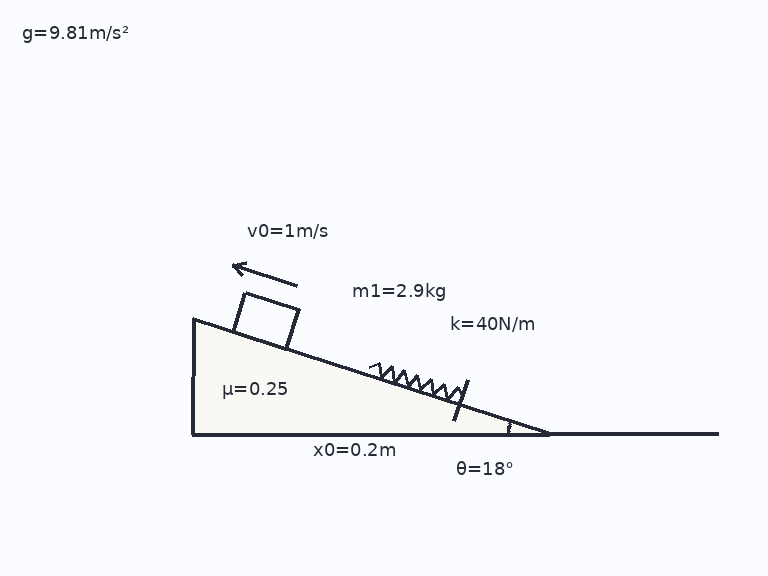block: (230, 291, 300, 351)
ramp: (190, 316, 550, 436)
spring: (367, 360, 464, 401)
